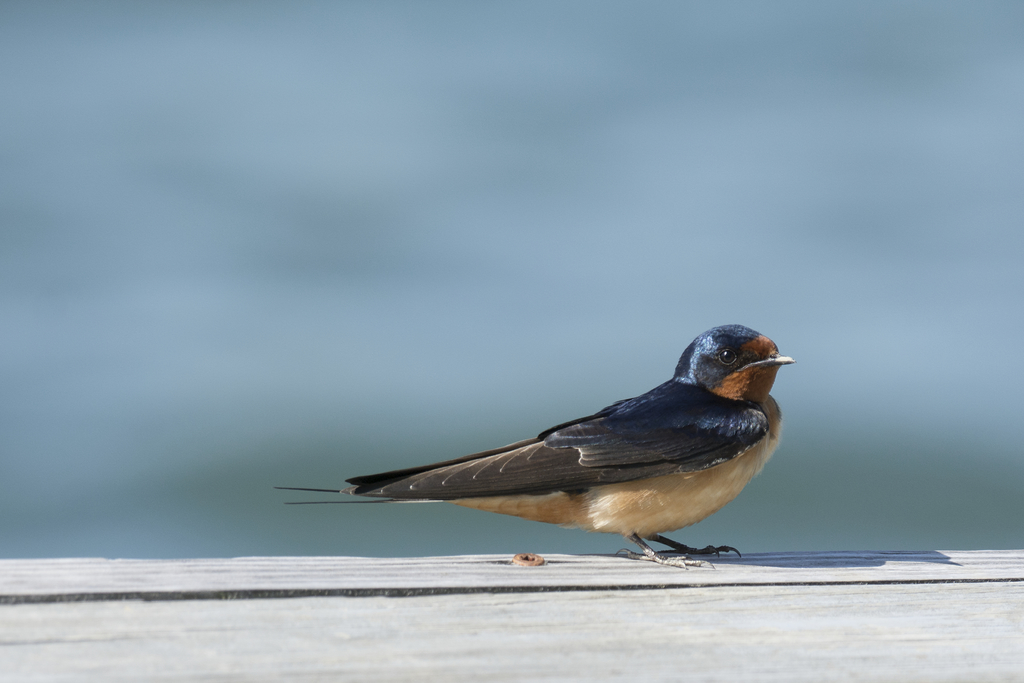face: (731, 355, 781, 399)
